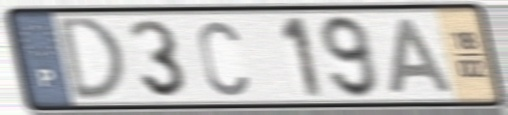1: (278, 14, 326, 101)
3: (128, 18, 190, 99)
9: (318, 12, 380, 101)
A: (387, 15, 457, 96)
C: (194, 17, 251, 98)
D: (56, 14, 130, 105)
